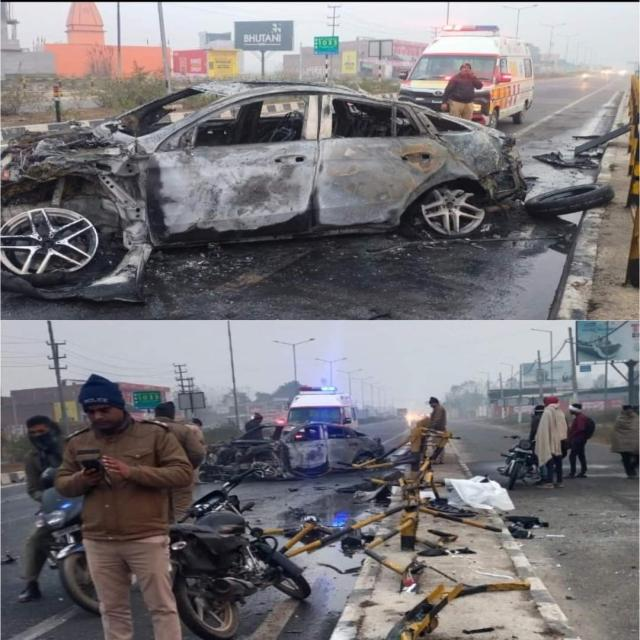accident: (2, 81, 526, 300), (201, 421, 384, 480)
emergency: (398, 25, 534, 127)
motorcycle: (170, 470, 311, 640)
